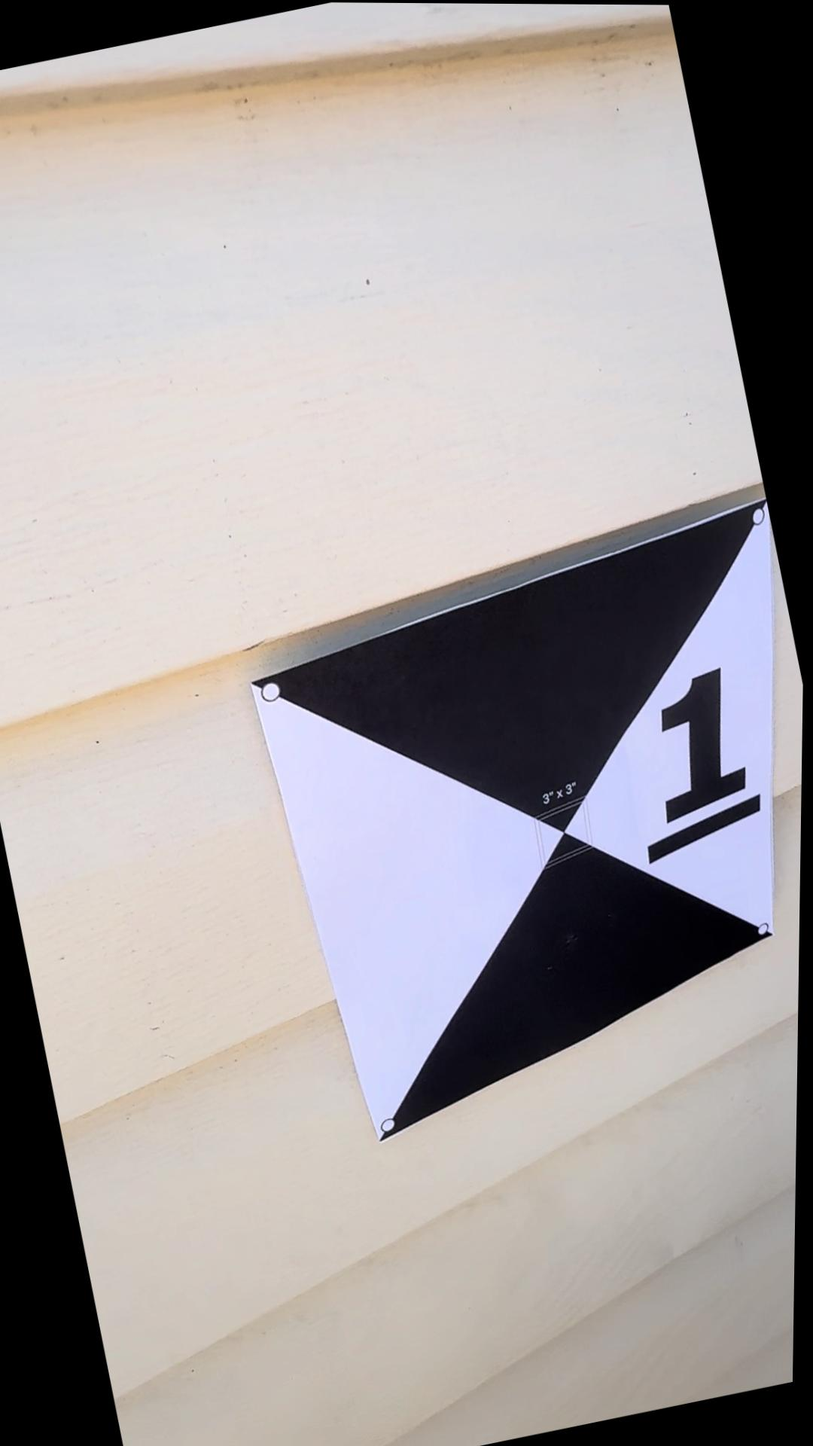target1: (234, 479, 801, 1166)
